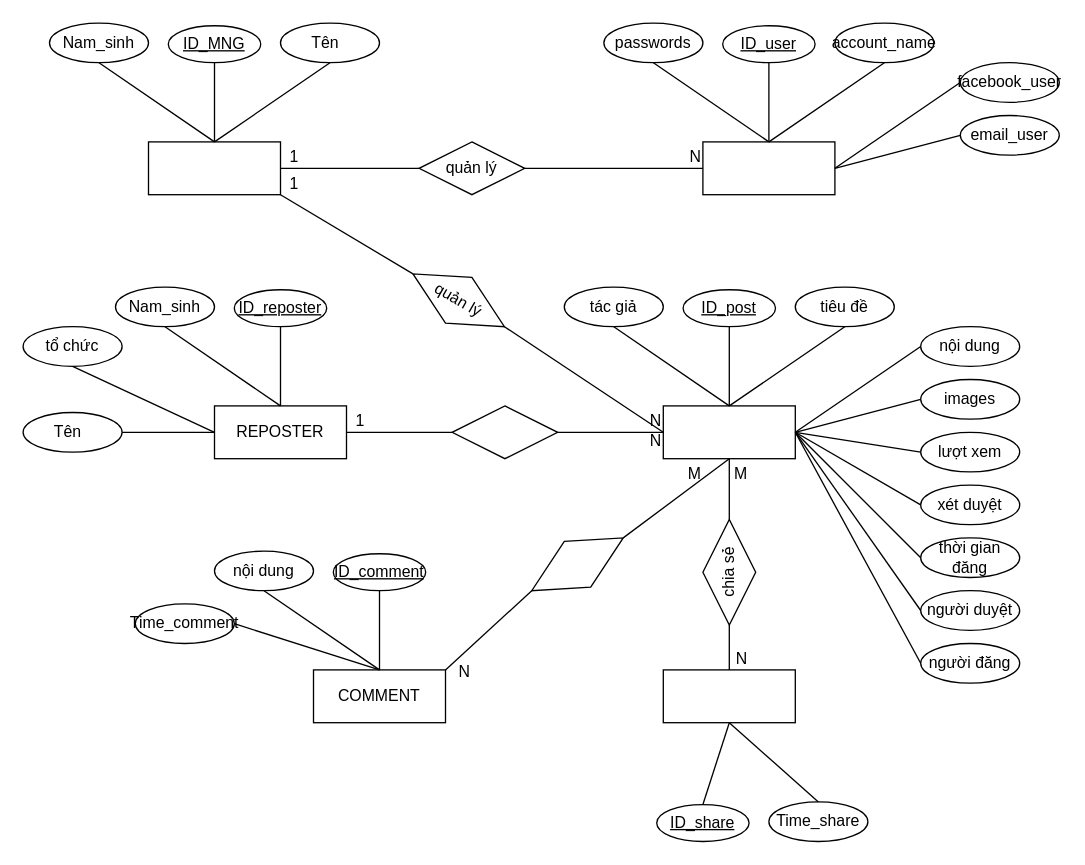
Image size: 1085x865. Some labels were removed from this diagram. Each missing label, with the centre of its shape:
bình luận: the point at 577,563
MANAGERS: the point at 213,168
POST: the point at 728,432
SHARE: the point at 728,696
USERS: the point at 768,168
đăng: the point at 504,432
